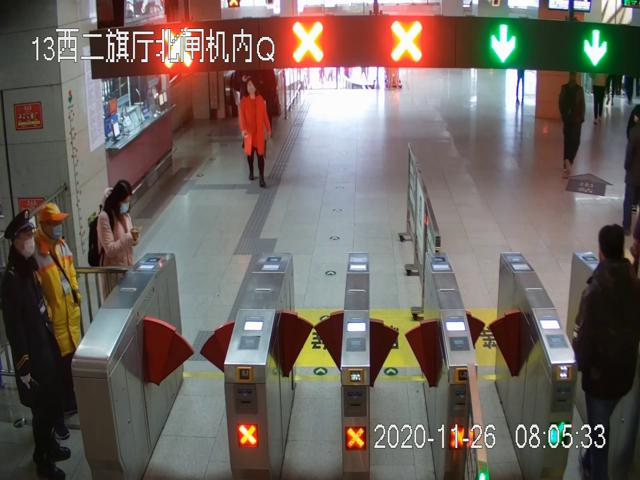person: (1, 208, 72, 480), (29, 201, 82, 442), (88, 178, 139, 304), (239, 80, 272, 187)
